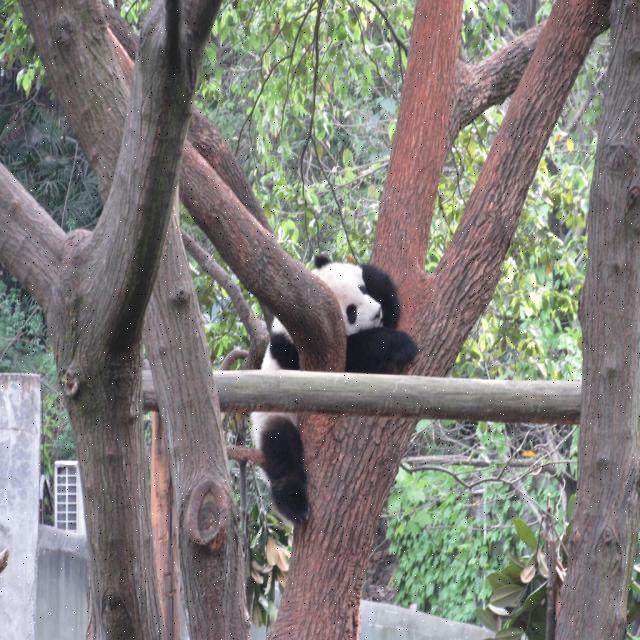panda: (248, 251, 417, 524)
